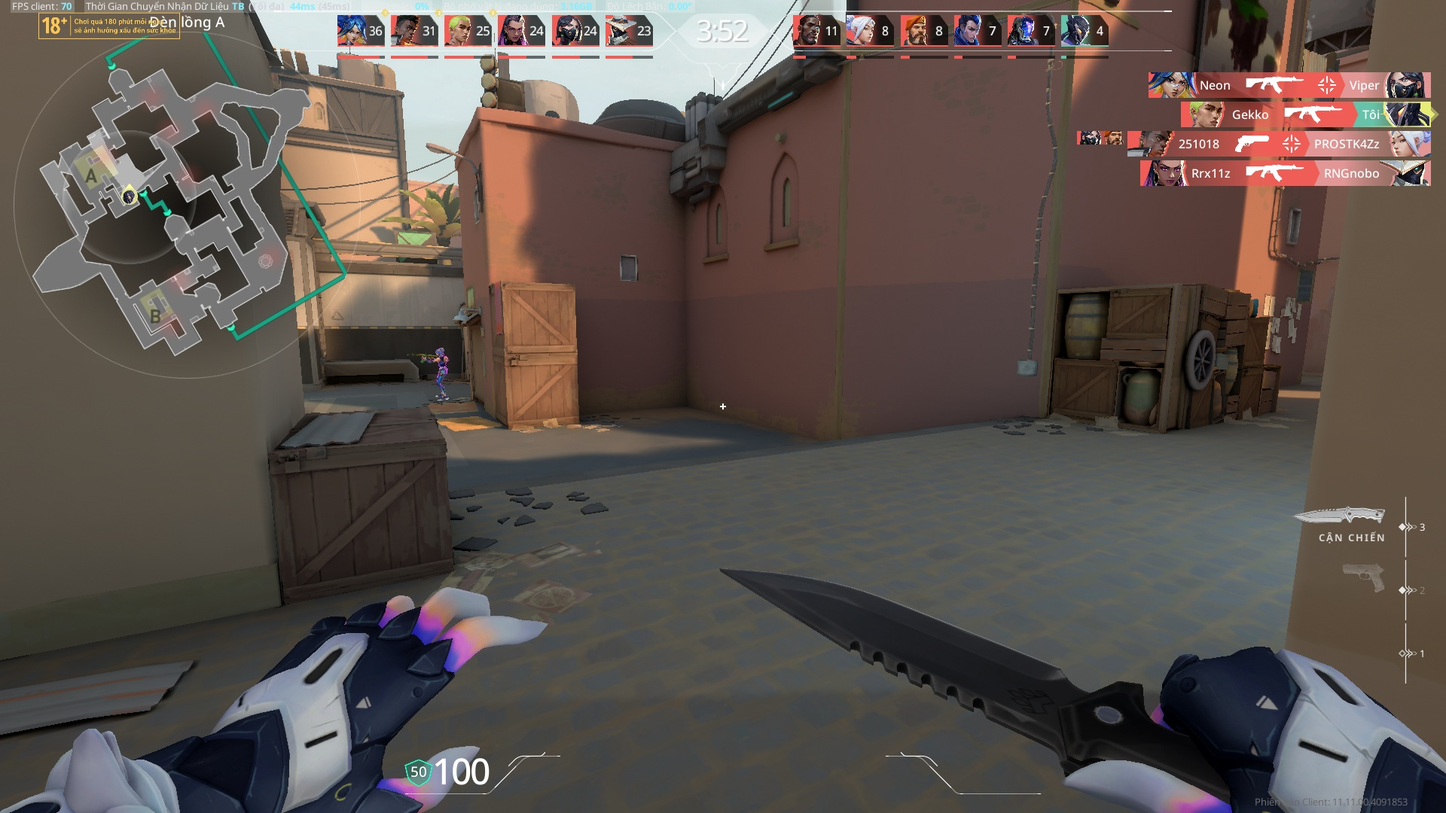body: (432, 353, 450, 376)
head: (434, 345, 445, 355)
